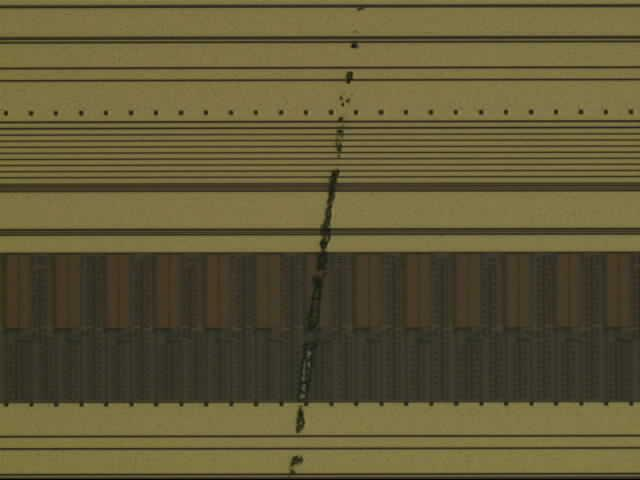SCRATCH: (282, 2, 374, 480)
